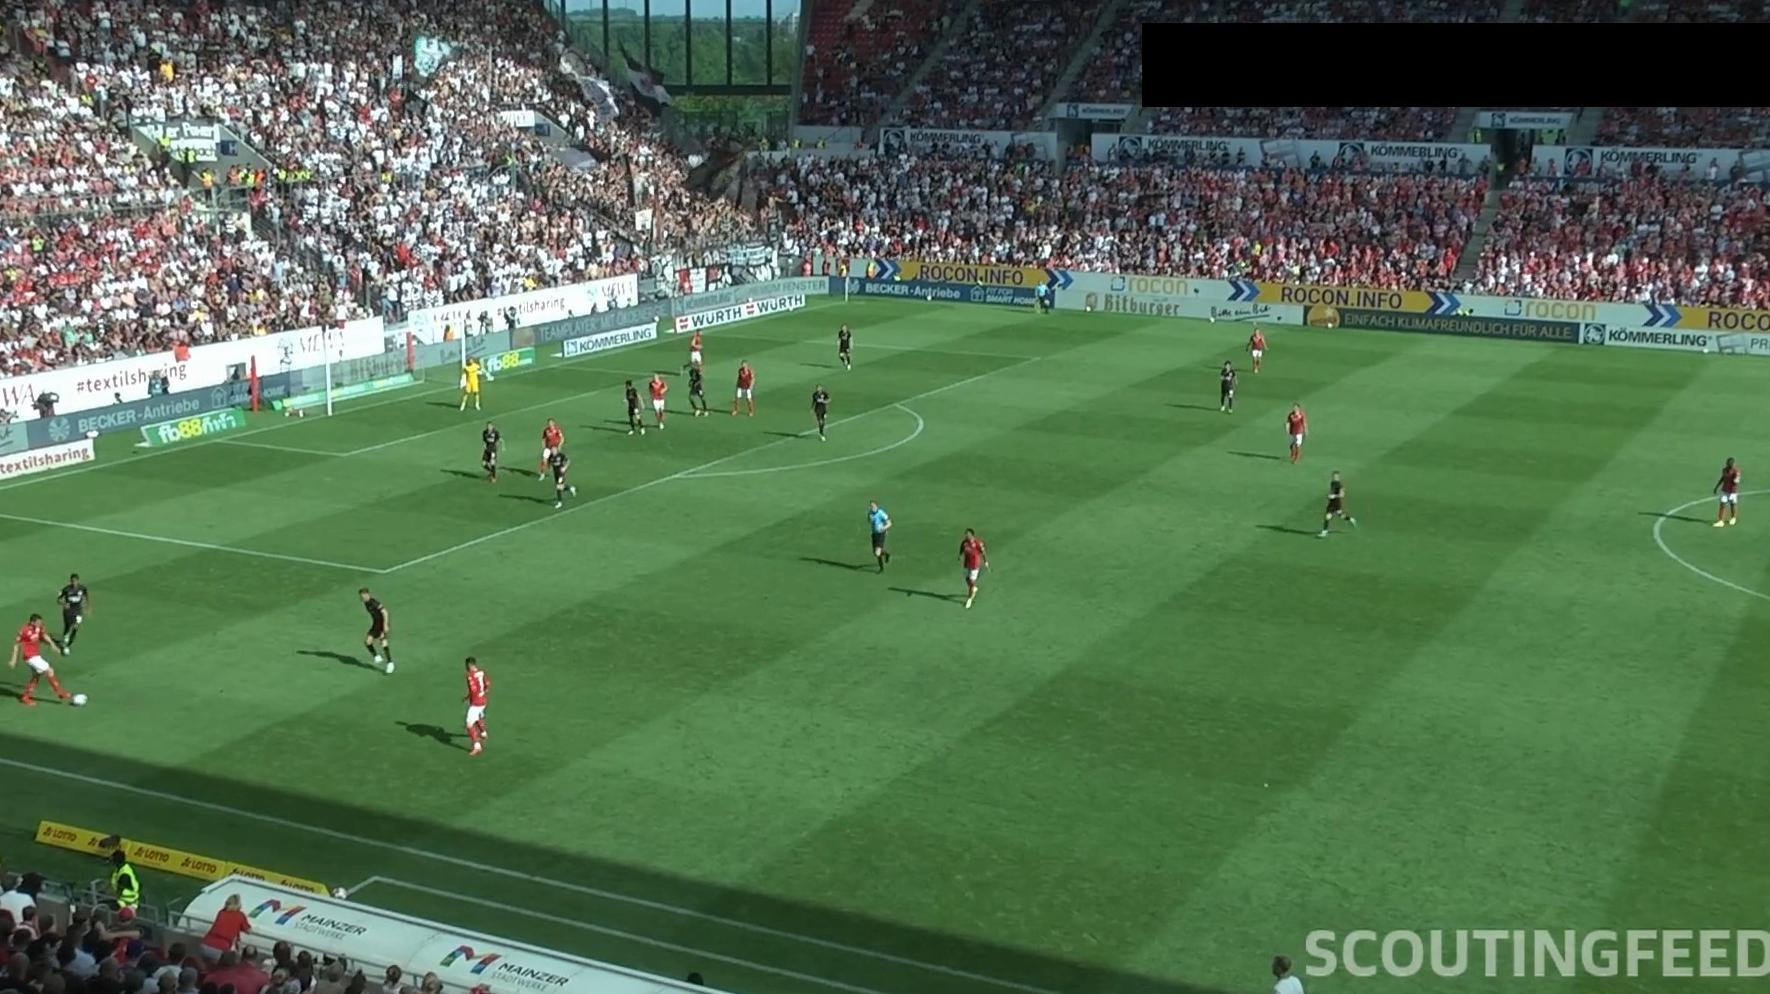ball: (69, 691, 90, 707)
